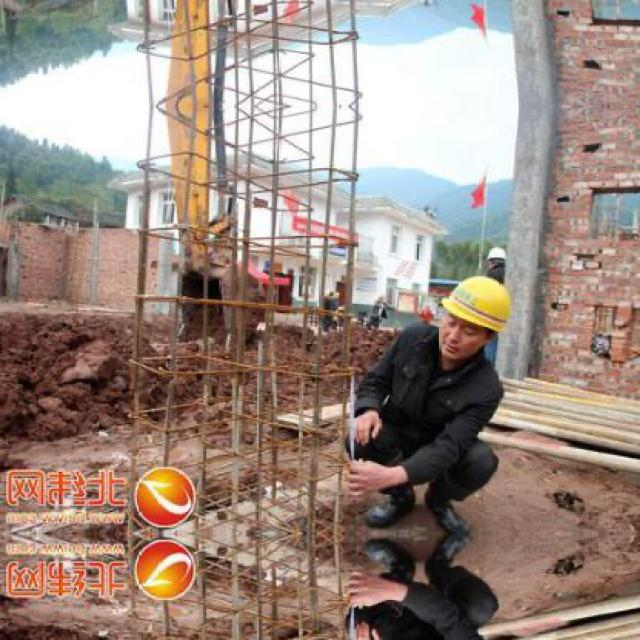con casco: (417, 272, 511, 368)
